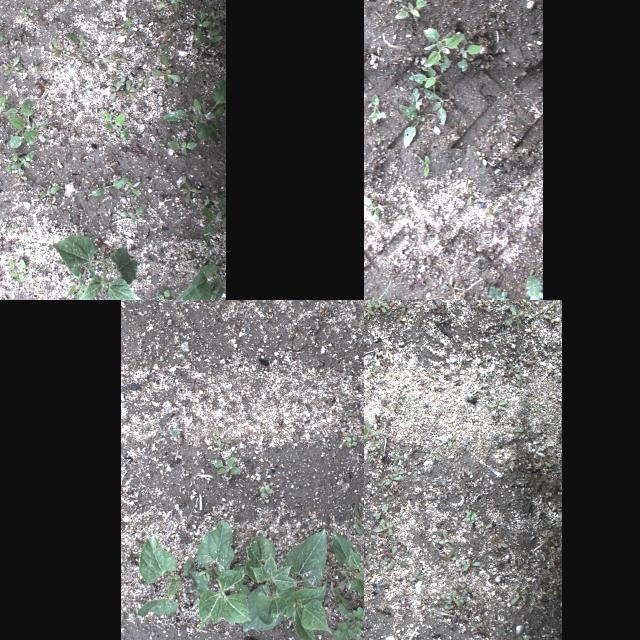crop: (242, 528, 331, 640), (50, 234, 143, 300), (136, 536, 196, 616), (173, 256, 225, 300), (334, 529, 364, 605)
weed: (192, 518, 248, 632), (162, 76, 225, 144), (416, 26, 486, 74), (404, 59, 444, 125), (397, 86, 427, 146), (8, 94, 38, 146), (331, 600, 364, 640), (152, 54, 180, 86), (100, 109, 128, 139), (202, 196, 224, 234), (391, 0, 428, 21), (365, 90, 389, 122), (512, 168, 538, 195), (194, 22, 223, 46), (92, 177, 128, 196), (364, 193, 385, 225), (440, 587, 464, 615), (38, 182, 61, 210), (414, 152, 434, 184), (381, 544, 407, 568), (4, 150, 34, 170), (210, 454, 240, 474), (194, 10, 212, 40), (488, 283, 518, 300), (523, 271, 540, 300), (0, 93, 16, 123), (364, 421, 380, 451), (119, 204, 145, 222), (506, 304, 524, 328), (168, 140, 198, 154), (372, 516, 393, 536), (156, 32, 174, 54), (102, 50, 126, 66), (183, 178, 197, 202), (63, 32, 83, 48), (458, 188, 474, 208), (484, 202, 500, 222), (438, 528, 454, 548), (512, 584, 528, 604), (526, 472, 546, 488), (122, 78, 136, 100), (50, 36, 64, 58), (49, 118, 65, 136), (19, 6, 37, 22), (332, 588, 350, 604), (372, 502, 390, 518), (108, 80, 122, 100), (460, 558, 480, 572), (508, 362, 522, 382), (156, 0, 186, 9), (441, 274, 454, 294), (538, 530, 554, 546), (4, 57, 18, 75), (475, 150, 489, 168), (442, 548, 456, 566), (465, 287, 484, 300), (382, 473, 402, 485), (390, 464, 404, 481), (210, 5, 220, 28), (19, 258, 33, 274), (348, 520, 364, 534), (535, 452, 551, 466), (540, 478, 556, 492), (121, 16, 131, 36), (488, 536, 508, 546), (488, 399, 508, 409), (79, 54, 93, 68), (449, 153, 463, 167), (472, 620, 486, 634), (257, 484, 273, 496), (364, 300, 376, 316), (212, 429, 222, 448), (543, 313, 561, 323), (0, 238, 10, 255), (127, 180, 139, 194), (108, 20, 120, 34), (344, 434, 358, 446), (410, 568, 424, 580), (478, 519, 492, 531), (428, 300, 442, 312), (374, 300, 387, 312), (428, 446, 439, 460), (476, 300, 490, 311), (108, 68, 120, 80), (366, 366, 378, 378), (512, 425, 524, 437), (10, 272, 24, 282), (185, 586, 195, 600), (380, 598, 390, 612), (389, 451, 403, 461), (464, 585, 478, 595), (157, 289, 169, 300), (431, 411, 441, 424), (138, 76, 148, 88), (417, 594, 429, 604), (440, 486, 450, 498), (525, 306, 535, 318), (394, 309, 404, 321), (448, 434, 456, 448), (466, 511, 476, 522), (397, 538, 407, 548), (456, 583, 466, 593), (399, 302, 409, 312), (220, 438, 232, 446), (377, 479, 385, 491), (553, 476, 559, 492), (416, 300, 428, 308), (399, 588, 408, 598), (427, 368, 437, 377), (511, 558, 522, 566), (521, 427, 529, 438), (516, 634, 530, 640), (170, 428, 178, 438), (434, 560, 444, 568), (519, 474, 527, 484), (519, 300, 530, 307), (379, 398, 388, 406), (368, 312, 374, 324), (364, 295, 378, 300), (476, 600, 484, 608), (364, 553, 370, 563), (400, 600, 410, 606), (458, 467, 464, 477), (472, 608, 482, 614), (482, 617, 488, 625), (394, 486, 402, 492), (456, 519, 462, 527), (361, 510, 364, 524), (384, 361, 391, 367), (364, 494, 372, 498), (553, 300, 560, 302)
